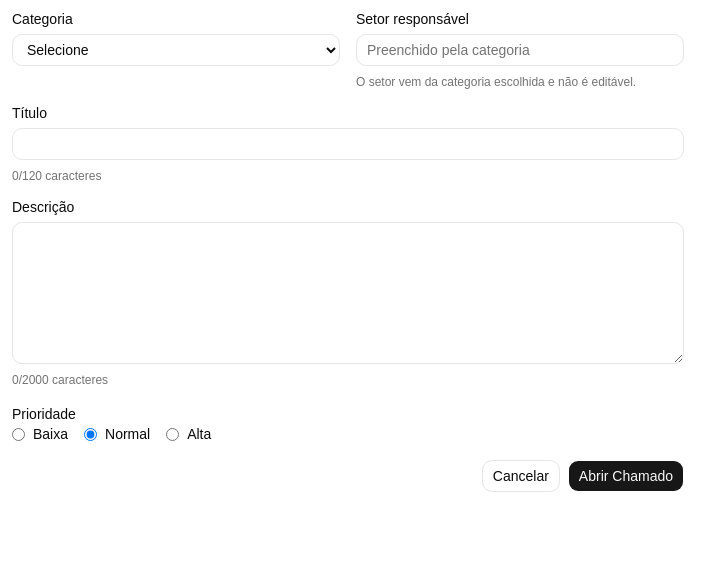
Test: NewTicketForm (Tela 4, US1.2, BR9.3) › keeps the typed text and explains a category that is no longer available (AC4.2.3)
Select "Documentos" in the dropdown labelled "Categoria" at (176,50), box [12,34,340,66]
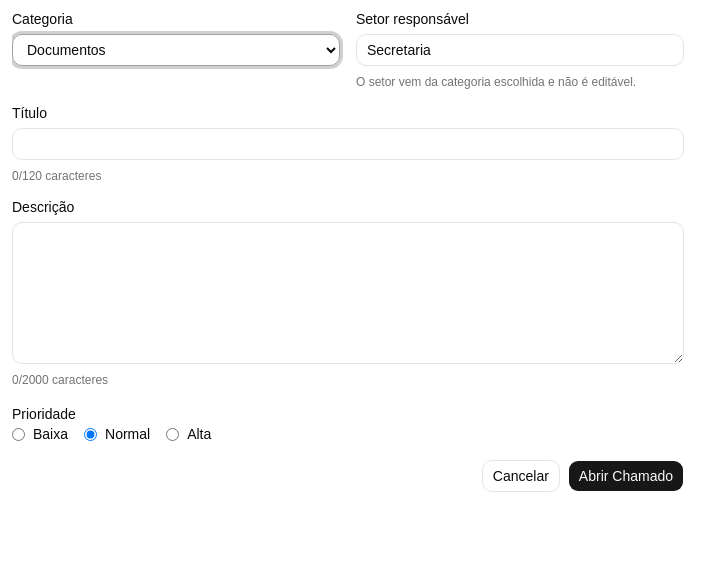
Type "  Revisão de nota  " into the field labelled "Título" at (348,144), box [12,128,684,160]
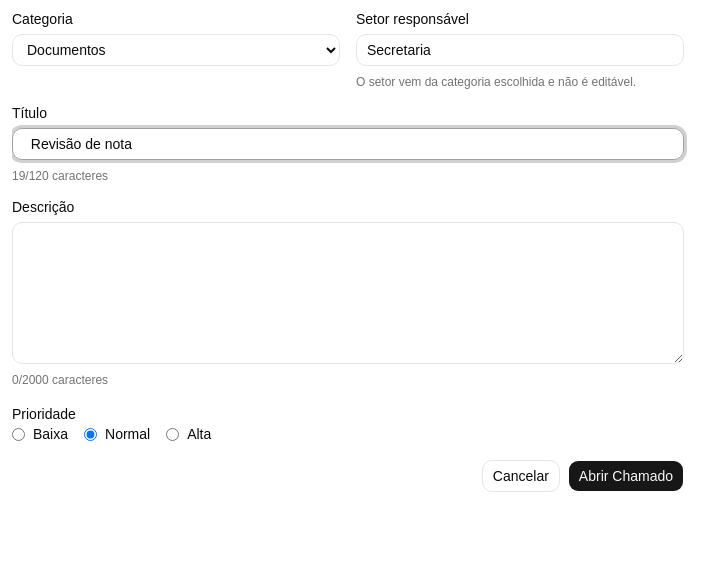
Type "  Gostaria de solicitar a revisão da nota da P2.  " into the text box labelled "Descrição" at (348,293), box [12,222,684,364]
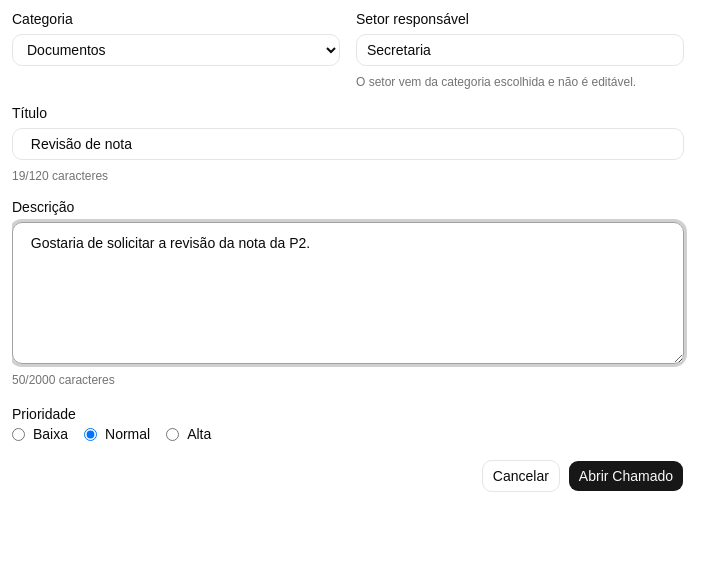
Click the button "Abrir Chamado" at (626,476), box [568,460,684,492]
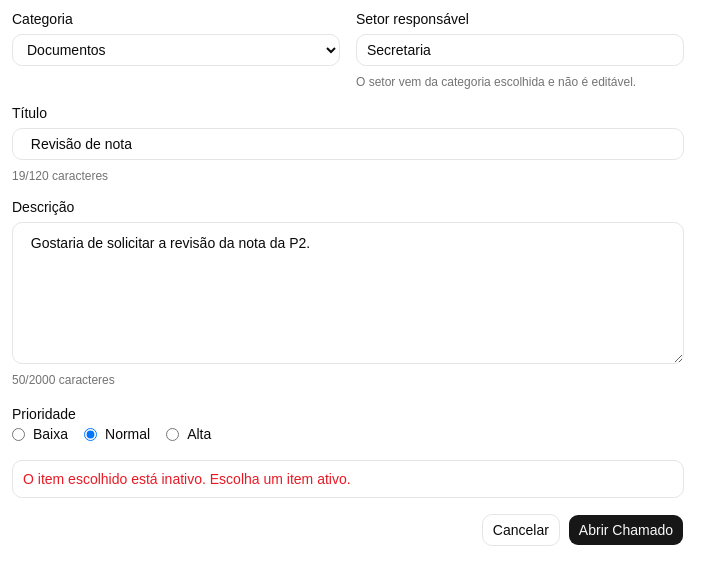
expect the message reads "O item escolhido está inativo. Escolha um item ativo.": met, box [23,471,351,487]
